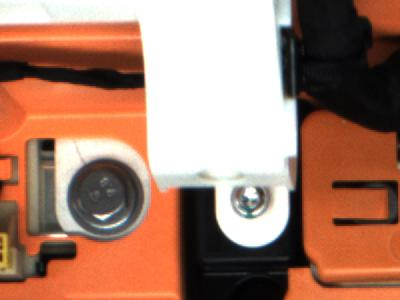nut_b: (59, 158, 146, 238)
